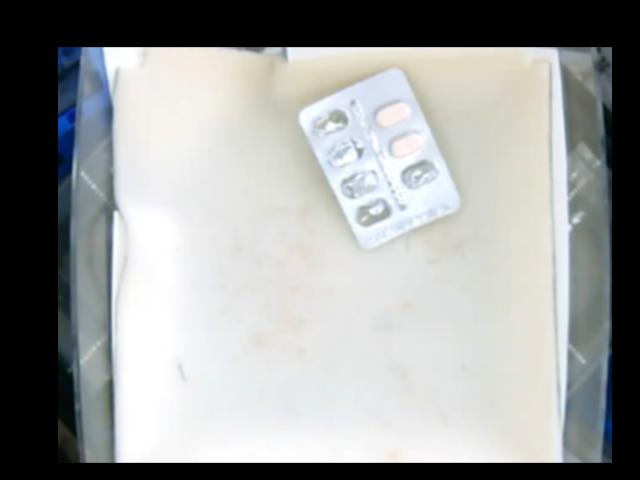Medicine: (296, 65, 465, 245)
